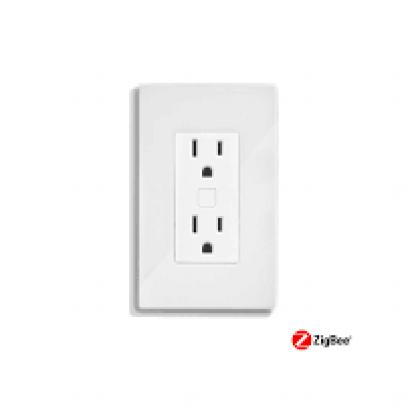OUTLET: (137, 83, 275, 313)
